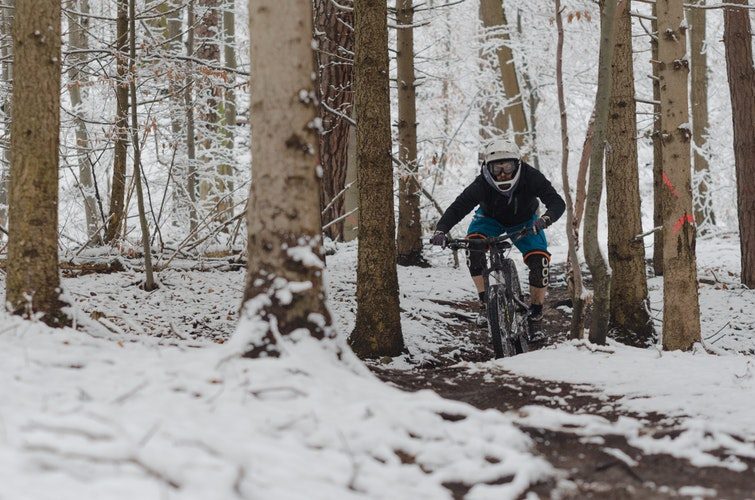helmet: (474, 140, 532, 193)
